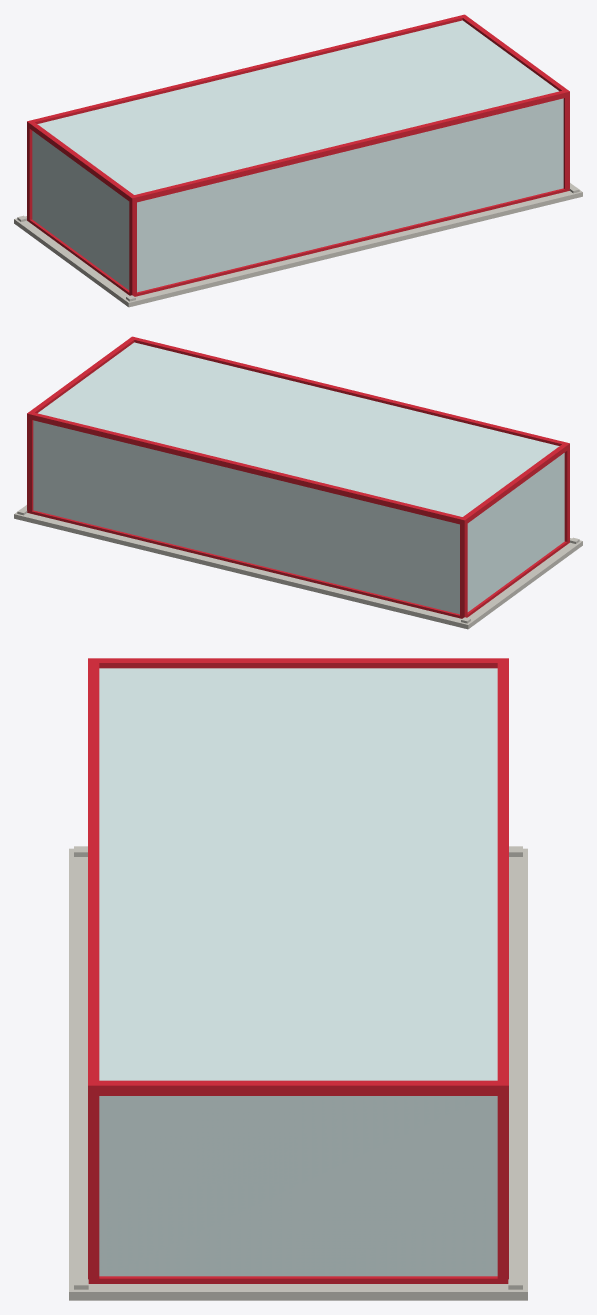
Rendered from mclaren-f1-mcl39.glb.
3 views of the same model, one above another, from view 1: azimuth 30°, elevation 25°; view 2: azimuth 150°, elevation 25°; view 3: azimuth 270°, elevation 25° (orthographic). The views are drawn at different scales.
Size of the model in its own units: 0.64 by 0.1395 by 0.28.
